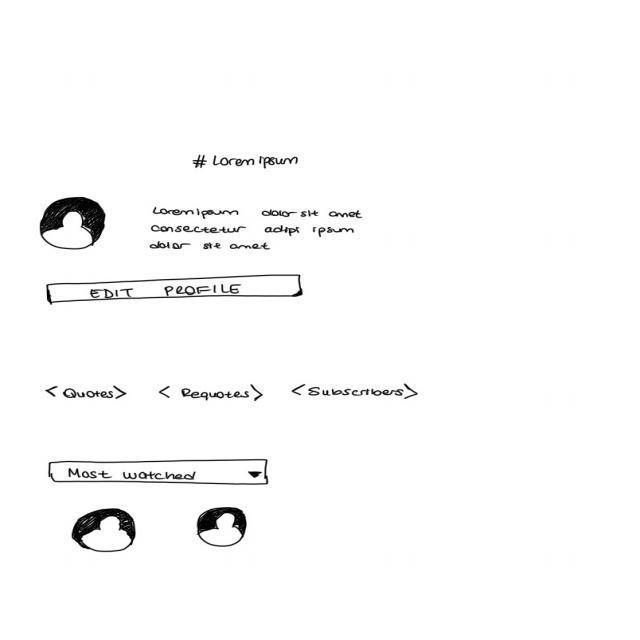button: (47, 273, 306, 307)
image: (39, 198, 111, 252), (71, 507, 141, 555), (195, 506, 249, 550)
label: (192, 153, 304, 173)
link: (291, 382, 420, 402), (159, 384, 267, 404), (45, 384, 130, 402)
select: (48, 460, 272, 488)
textbox: (150, 206, 365, 255)
